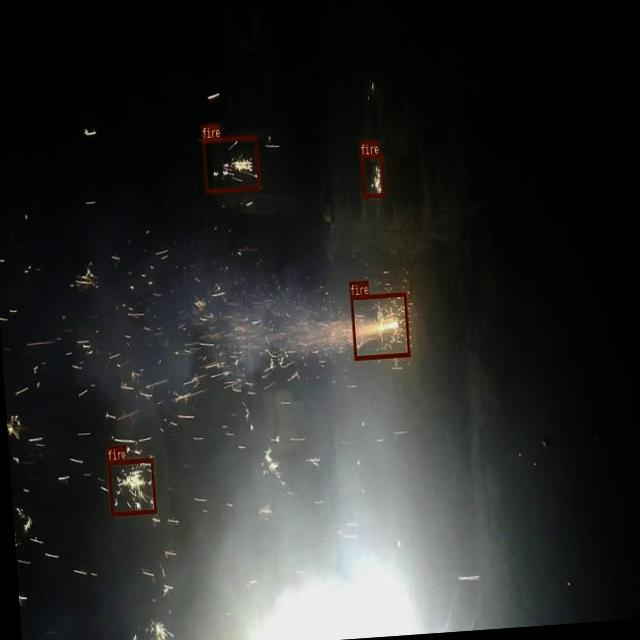fire: (350, 290, 410, 360), (202, 134, 260, 192), (106, 457, 156, 515), (360, 153, 384, 197)
